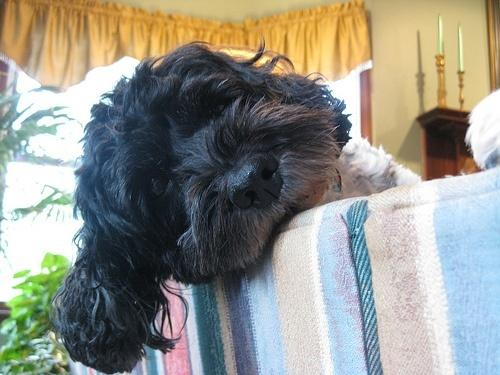dog: (53, 44, 419, 372)
